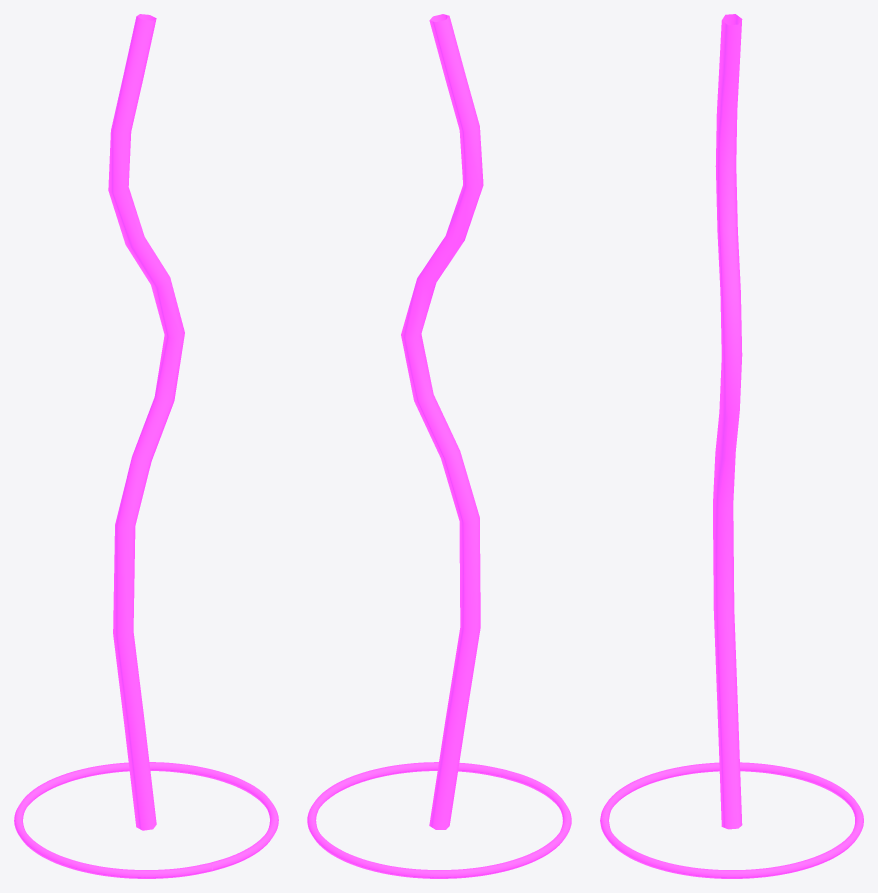
File: ability-4-refined-v15.fbx
3 views of the same model, side by side, from view 1: azimuth 30°, elevation 25°; view 2: azimuth 150°, elevation 25°; view 3: azimuth 270°, elevation 25° (orthographic).
Visible parts, largest first — view 1: JaggedLightning, ImpactRune; view 2: JaggedLightning, ImpactRune; view 3: JaggedLightning, ImpactRune.
Part boxes in pixels (<box>): JaggedLightning: <box>108,14,184,830</box>; ImpactRune: <box>14,762,278,878</box>; JaggedLightning: <box>401,14,483,829</box>; ImpactRune: <box>307,762,571,878</box>; JaggedLightning: <box>713,14,742,829</box>; ImpactRune: <box>600,762,863,878</box>.
Bounding box in the file's own units: 89 × 301 × 88.99.
